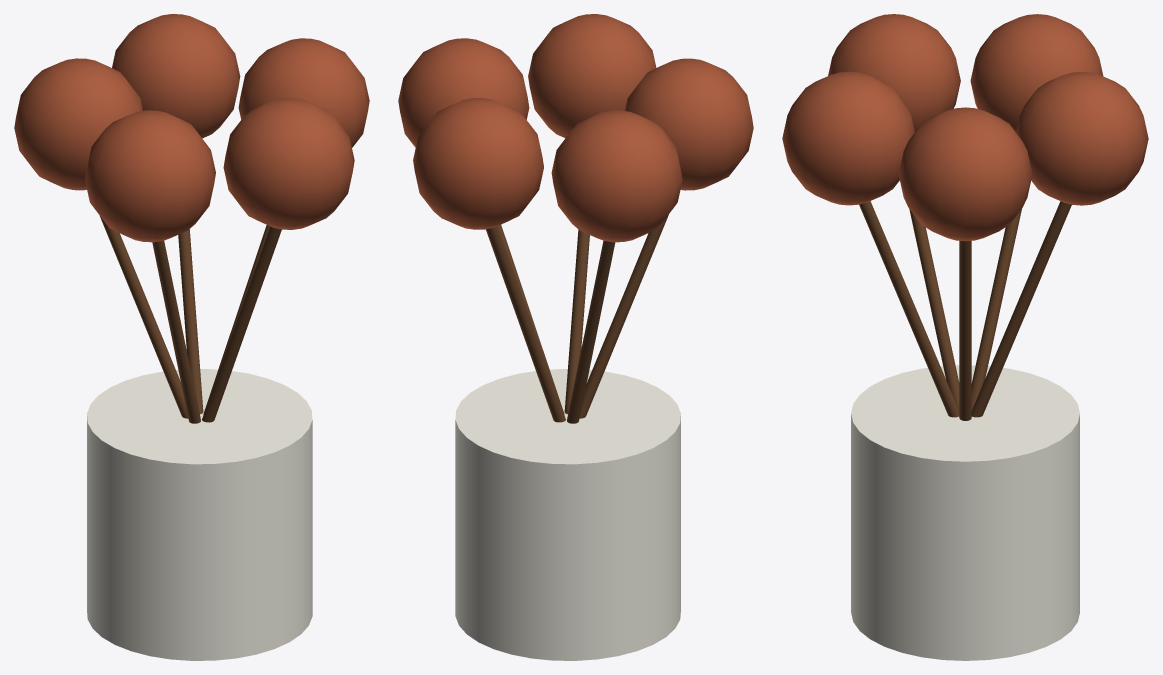
Rendered from dining-vase-arrangement.gltf.
The picture shows the model from 3 angles, left to right: view 1: azimuth 30°, elevation 25°; view 2: azimuth 150°, elevation 25°; view 3: azimuth 270°, elevation 25°; orthographic projection.
Parts seen in each view (by area): view 1: Dining ceramic centre vase, Dried flower head (×5), Dried flower stem (×5); view 2: Dining ceramic centre vase, Dried flower head (×5), Dried flower stem (×5); view 3: Dining ceramic centre vase, Dried flower head (×5), Dried flower stem (×5).
Part boxes in pixels (x1,y1,x2,y2): Dining ceramic centre vase: (87,369,312,660); Dried flower head (×5): (14,14,369,242); Dried flower stem (×5): (100,216,281,423); Dining ceramic centre vase: (455,369,680,660); Dried flower head (×5): (398,14,753,242); Dried flower stem (×5): (486,214,668,423); Dining ceramic centre vase: (851,365,1079,660); Dried flower head (×5): (782,14,1148,241); Dried flower stem (×5): (859,201,1071,420).
Size of the model in its own units: 0.2326 by 0.3979 by 0.24.
